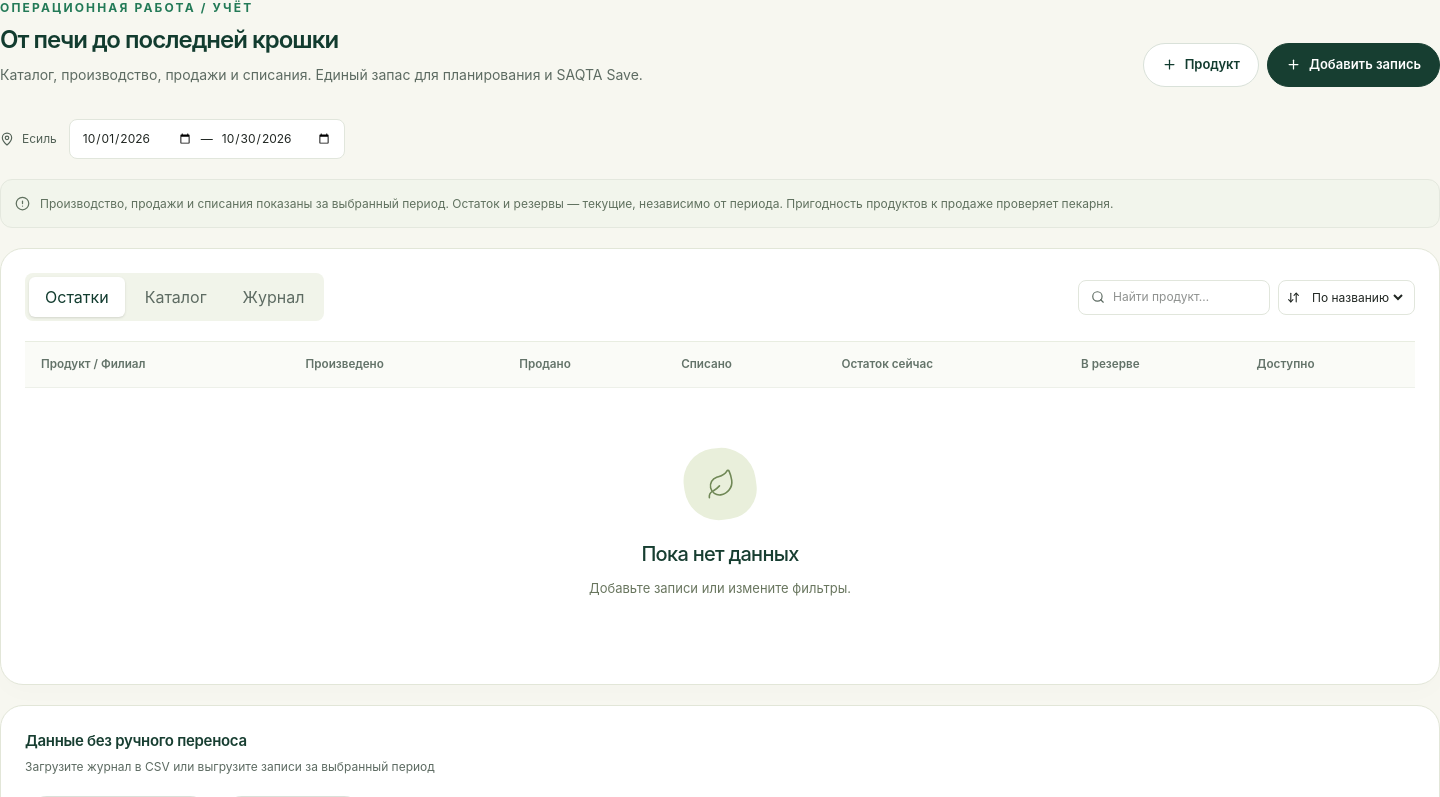
Scenario: inventory record forms use the API fields for the selected record kind › saves an unchanged production record with disabled product and location selectors
What coordinates should you click on to do the following:
click the tab "Журнал"
I would click on:
 (274, 297)
Its box is [227,277,320,317].
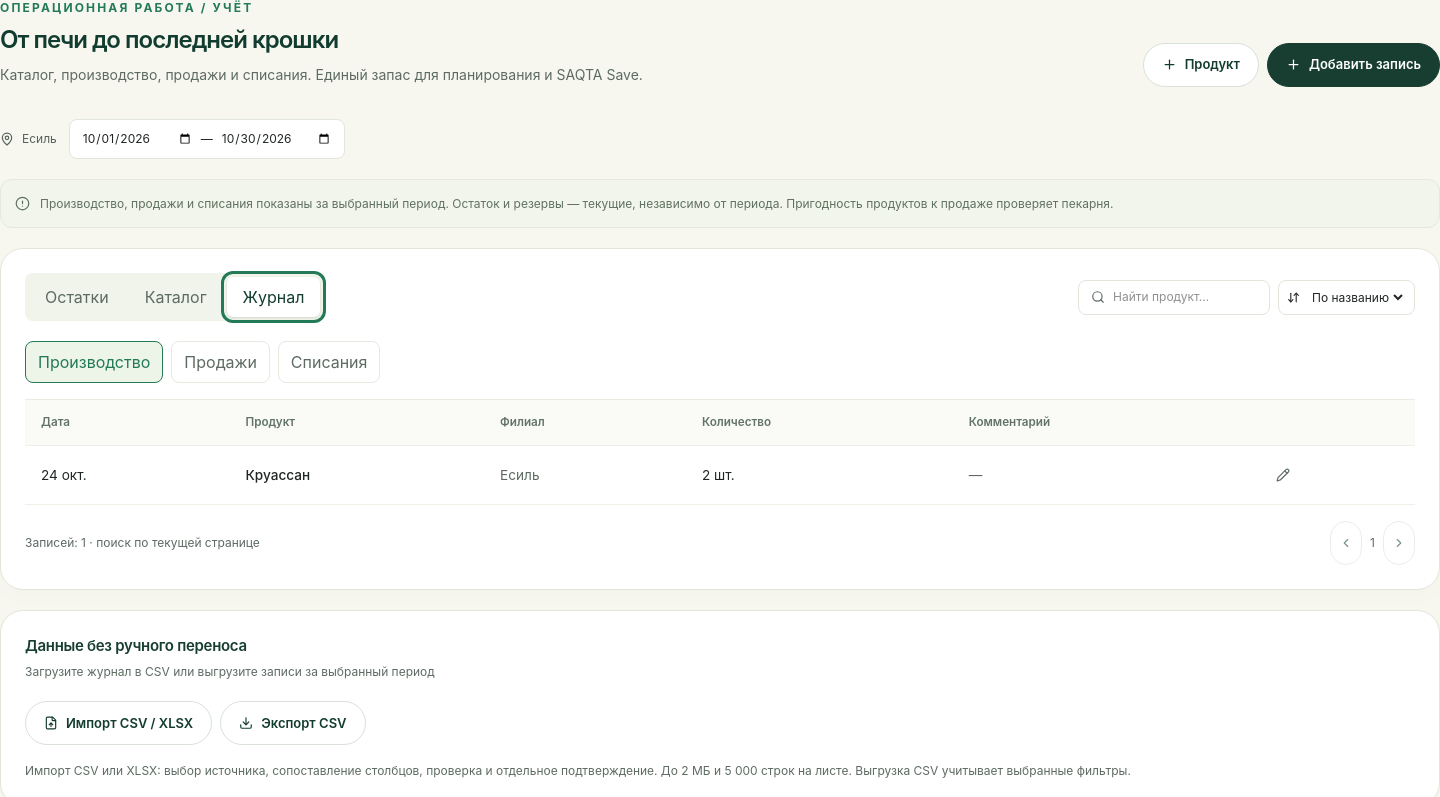
What coordinates should you click on to do the following:
click the button named "Редактировать запись 420"
I would click on:
 (1283, 475)
Its box is [1268,460,1298,490].
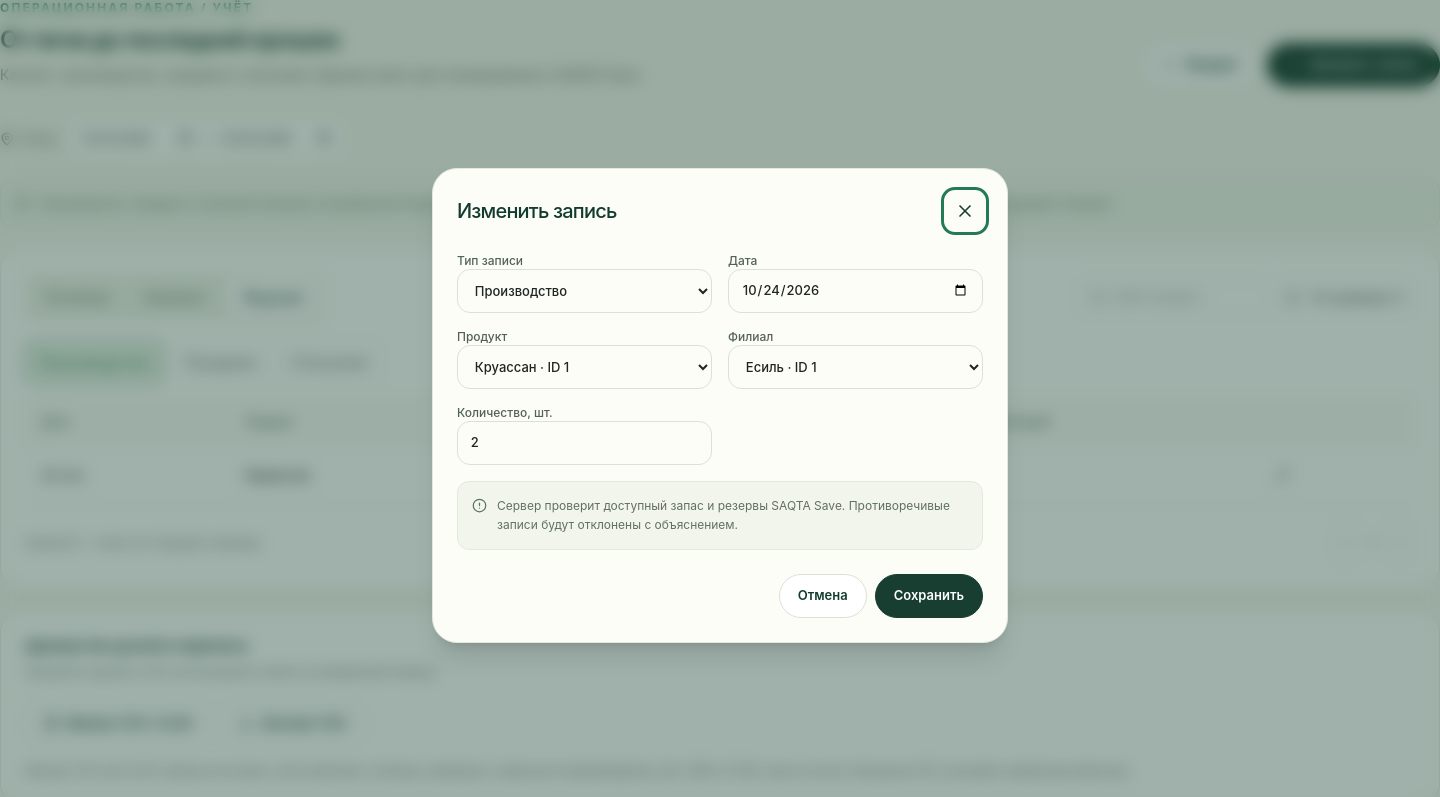
Expected: the dropdown labelled "Продукт" is disabled, [457,344,712,388]
Expected: the dropdown labelled "Филиал" is disabled, [728,344,983,388]
What coordinates should you click on to do the following:
click the button "Сохранить"
I would click on:
 (929, 596)
Its box is [875,574,983,618].
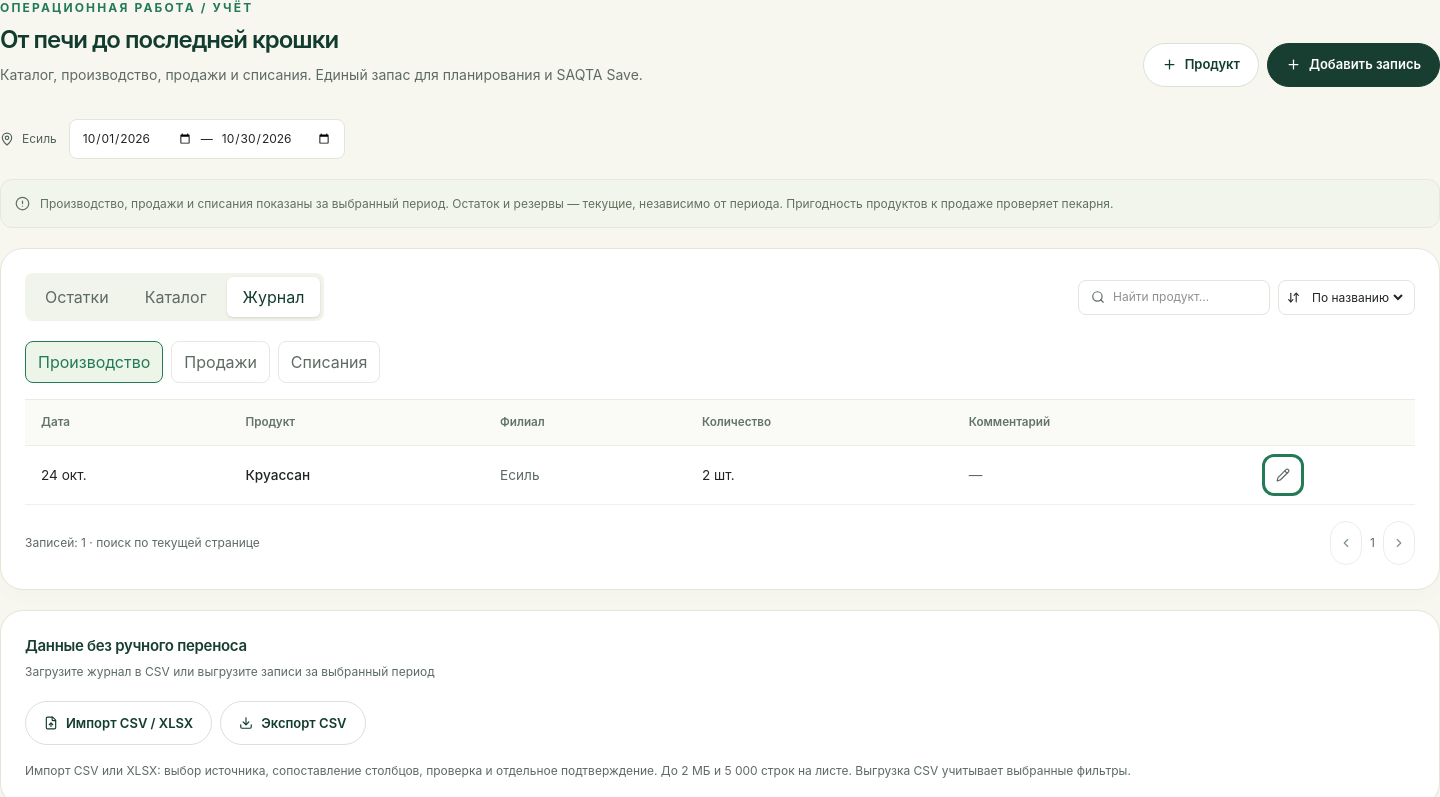
Expected: the dialog is gone
